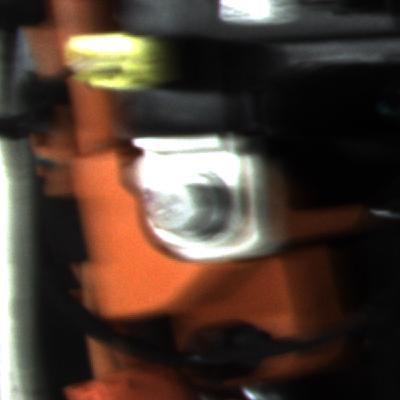nut_b: (150, 165, 231, 250)
